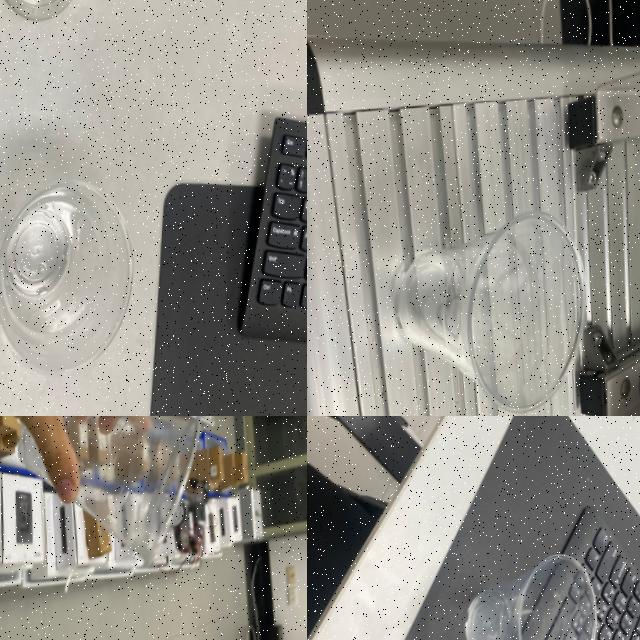glass: (383, 199, 603, 416), (6, 416, 214, 577), (0, 170, 151, 388), (459, 553, 610, 640)
